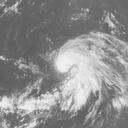cyclone: (53, 30, 118, 85)
